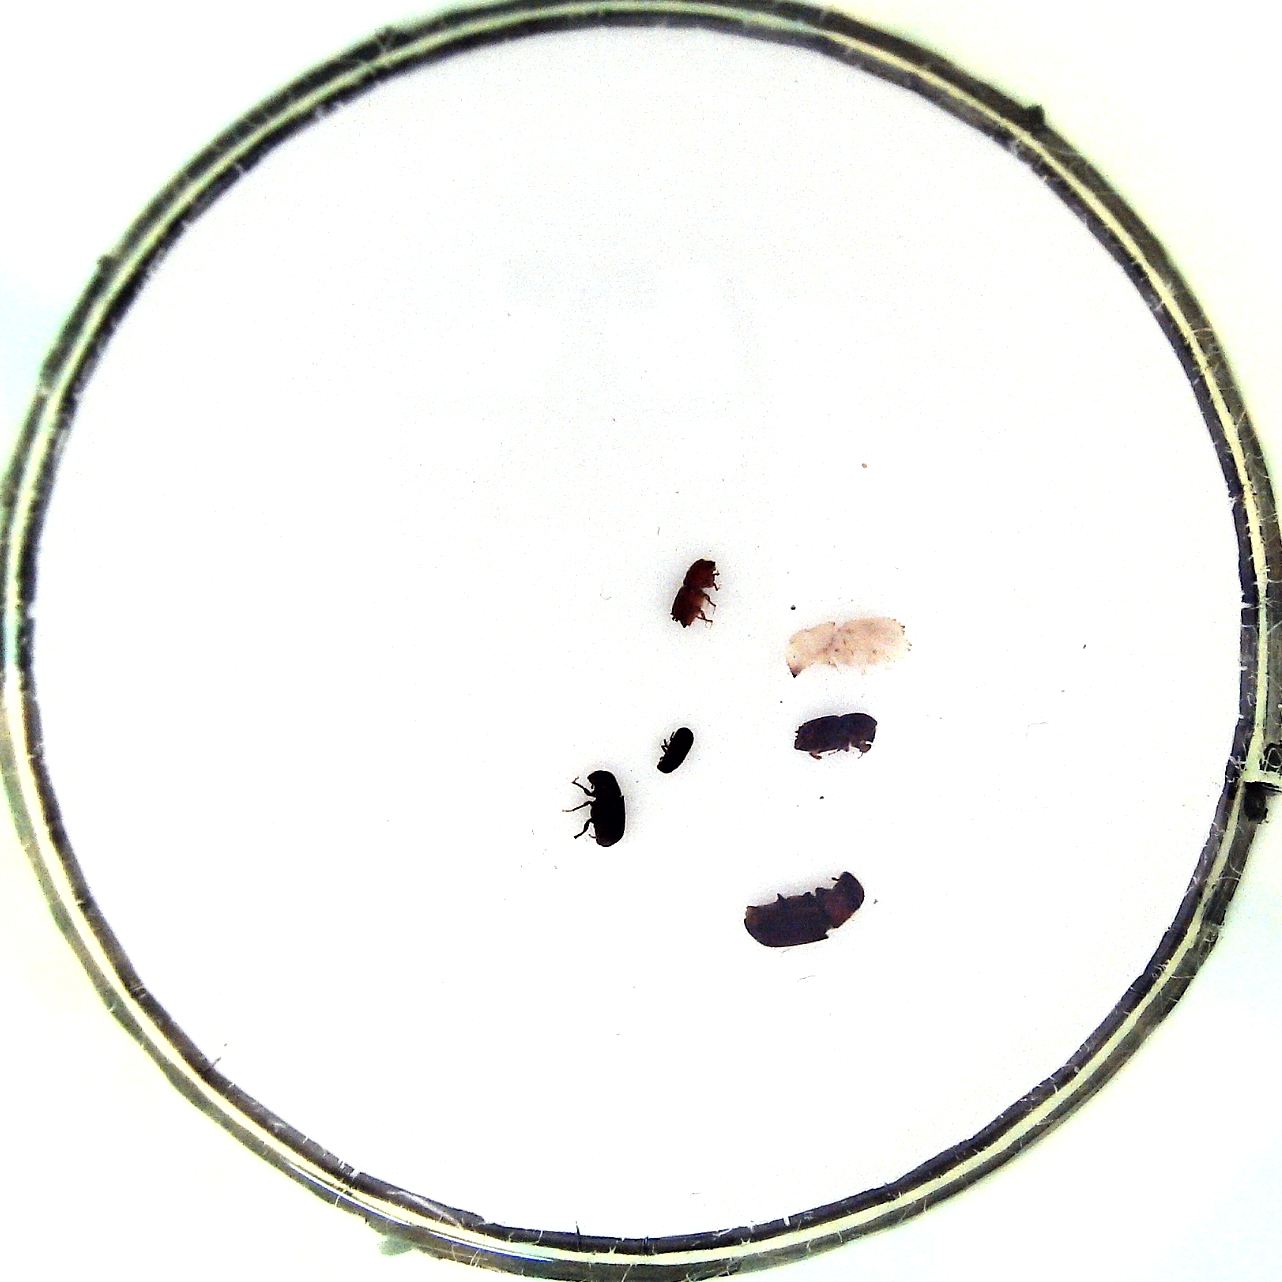Boerner: (776, 610, 919, 686)
Leconte: (735, 868, 868, 949)
Linnaeus: (787, 709, 885, 762)
acuminatus: (664, 555, 730, 636)
armandi: (564, 760, 632, 855)
coleoptera: (652, 726, 699, 782)
